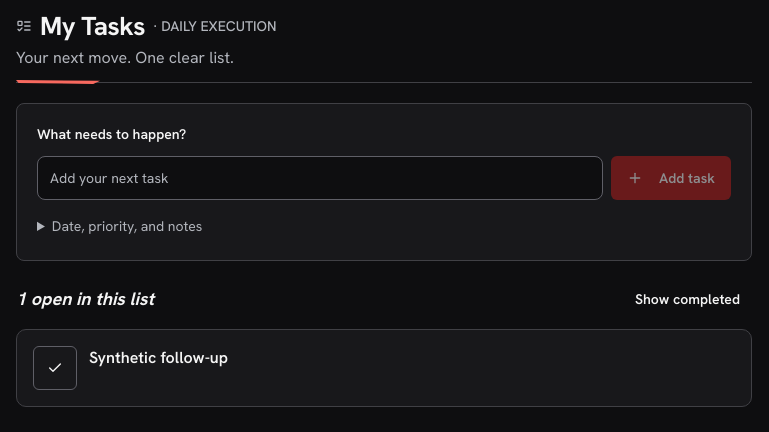
Test case: My Tasks › completes and reopens only the selected saved task
Click the button named "Complete: Synthetic follow-up" at (55, 368), box [33,346,77,390]
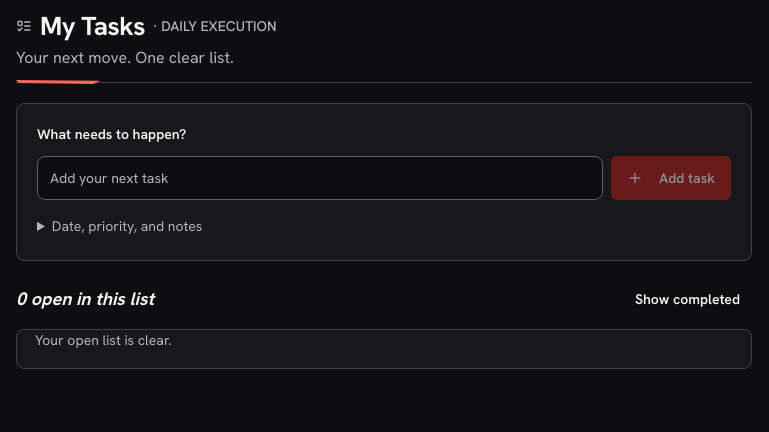
Now the text "Your open list is clear." is shown, box [35,331,172,349]
Click the button "Show completed" at (688, 299), box [623,281,752,317]
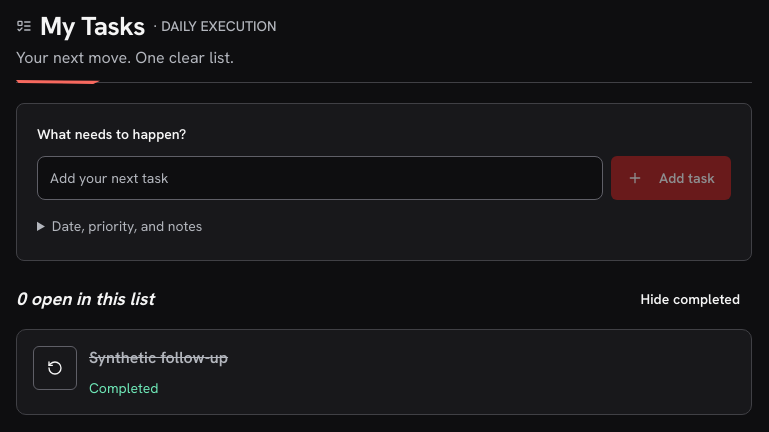
Click the button named "Reopen: Synthetic follow-up" at (55, 368), box [33,346,77,390]
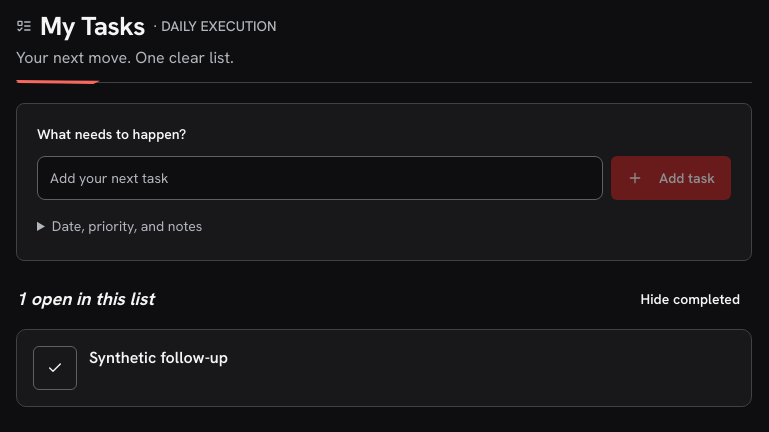
Now the button named "Complete: Synthetic follow-up" is shown, box [33,346,77,390]
